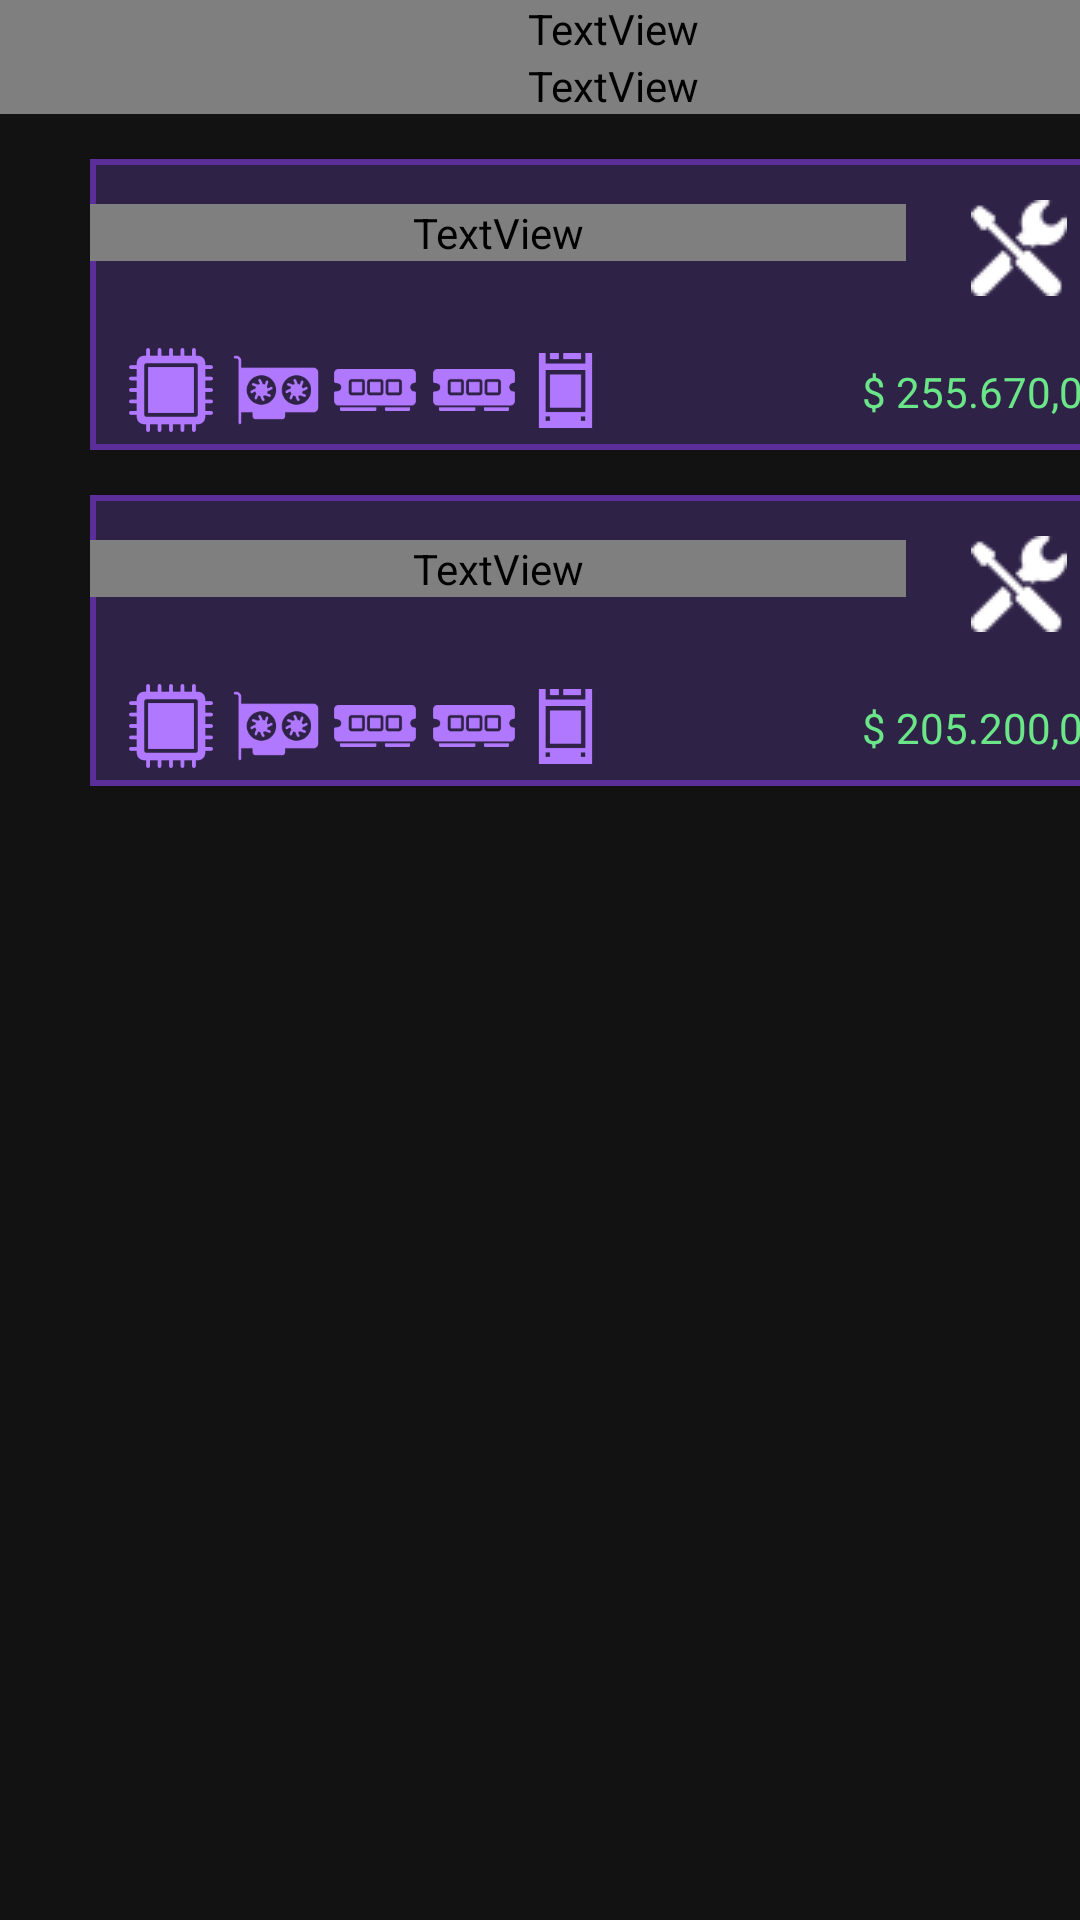

Named icons in this screenshot (1080*1920) and their bounding boxes, bbox=[x1, y1, x2, y2]:
graphic card: bbox=[233, 355, 319, 425], bbox=[233, 691, 319, 761]
processor: bbox=[129, 348, 213, 432], bbox=[129, 684, 213, 768]
ram memory: bbox=[334, 369, 416, 411], bbox=[433, 369, 515, 411], bbox=[334, 705, 416, 747], bbox=[433, 705, 515, 747]
state drive: bbox=[539, 353, 592, 428], bbox=[539, 689, 592, 764]
